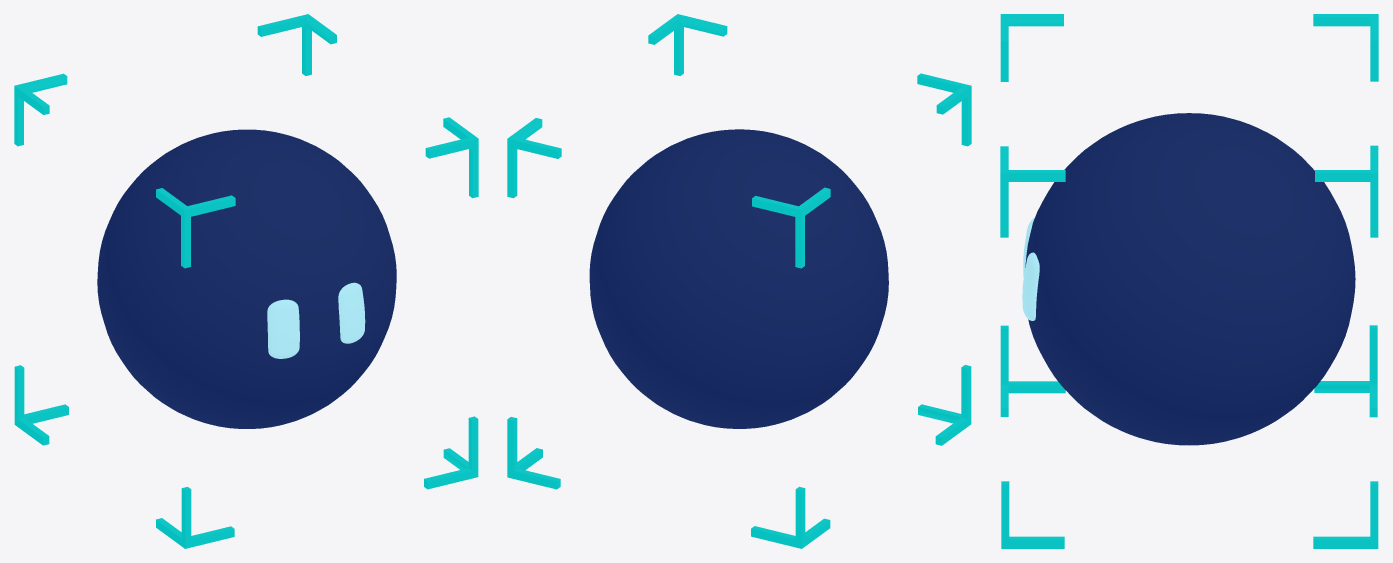
The model's file is Robot.glb.
3 renders of one model, left to right at view 1: azimuth 30°, elevation 25°; view 2: azimuth 150°, elevation 25°; view 3: azimuth 270°, elevation 25°, orthographic. The views are drawn at different scales.
Visible parts, largest first — view 1: EyeBall, jail; view 2: EyeBall, jail; view 3: EyeBall, jail.
Part boxes in pixels (x1=…): EyeBall: x1=97, y1=129, x2=396, y2=428; jail: x1=14, y1=14, x2=478, y2=548; EyeBall: x1=589, y1=129, x2=888, y2=428; jail: x1=507, y1=14, x2=971, y2=548; EyeBall: x1=1022, y1=113, x2=1355, y2=445; jail: x1=1000, y1=14, x2=1378, y2=548.
Size of the model in its own units: 1.64 by 1.8 by 1.64.
